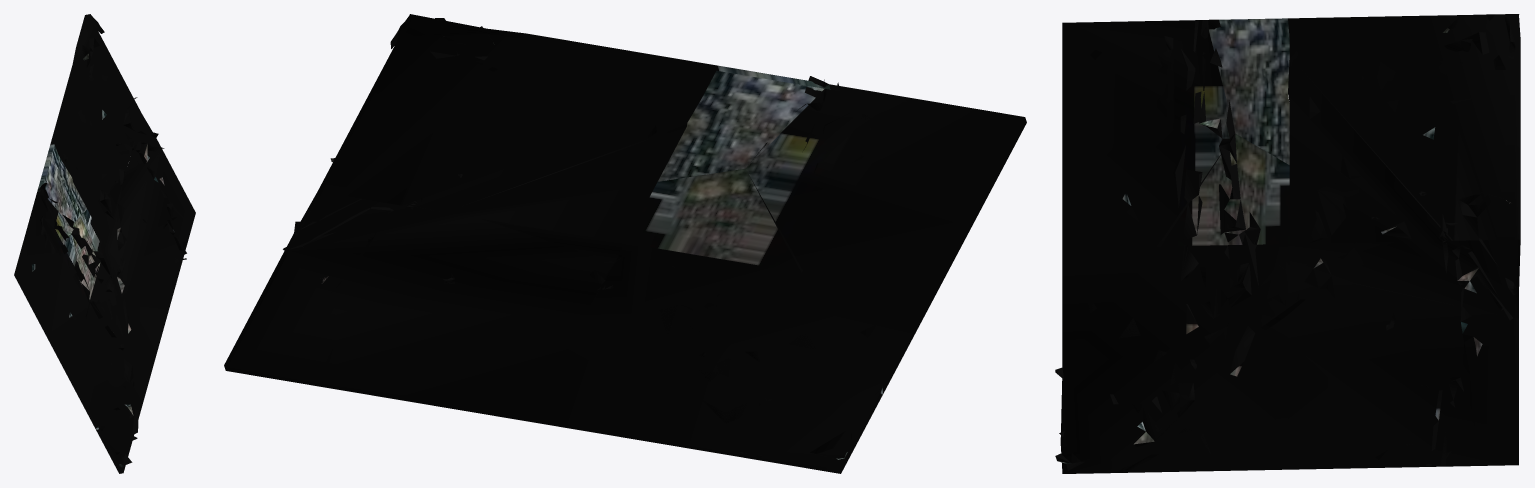
3 renders of one model, left to right at view 1: azimuth 30°, elevation 25°; view 2: azimuth 150°, elevation 25°; view 3: azimuth 270°, elevation 25°, orthographic. The views are drawn at different scales.
Parts seen in each view (by area): view 1: node_30436272704361_mesh0; view 2: node_30436272704361_mesh0; view 3: node_30436272704361_mesh0.
Part boxes in pixels (x1=…): node_30436272704361_mesh0: x1=14, y1=14, x2=195, y2=473; node_30436272704361_mesh0: x1=224, y1=14, x2=1026, y2=473; node_30436272704361_mesh0: x1=1055, y1=14, x2=1520, y2=473.
Bounding box in the file's own units: 2325 × 2331 × 1801.
Materials: 1 (1 with a texture image).
